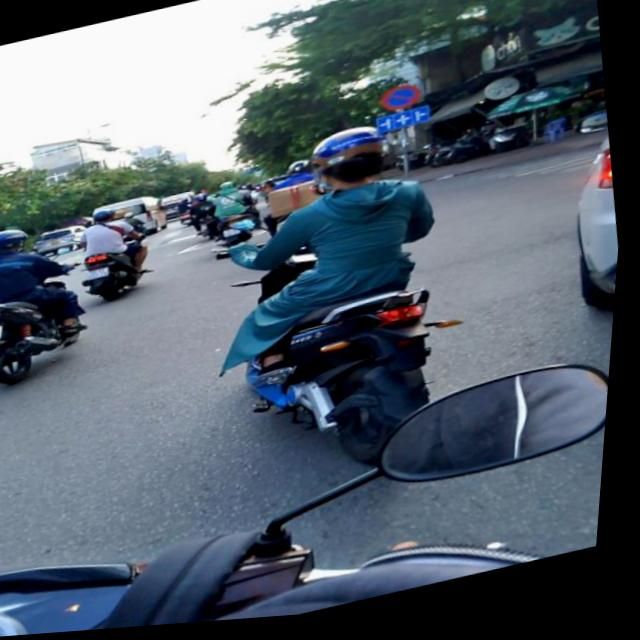Cam do xe: (380, 87, 425, 120)
